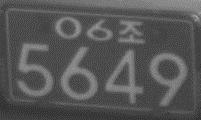0: (54, 15, 82, 41)
4: (103, 48, 143, 104)
5: (15, 42, 54, 98)
6: (59, 46, 99, 101), (85, 17, 112, 42)
9: (148, 51, 188, 107)
조: (117, 20, 145, 44)
